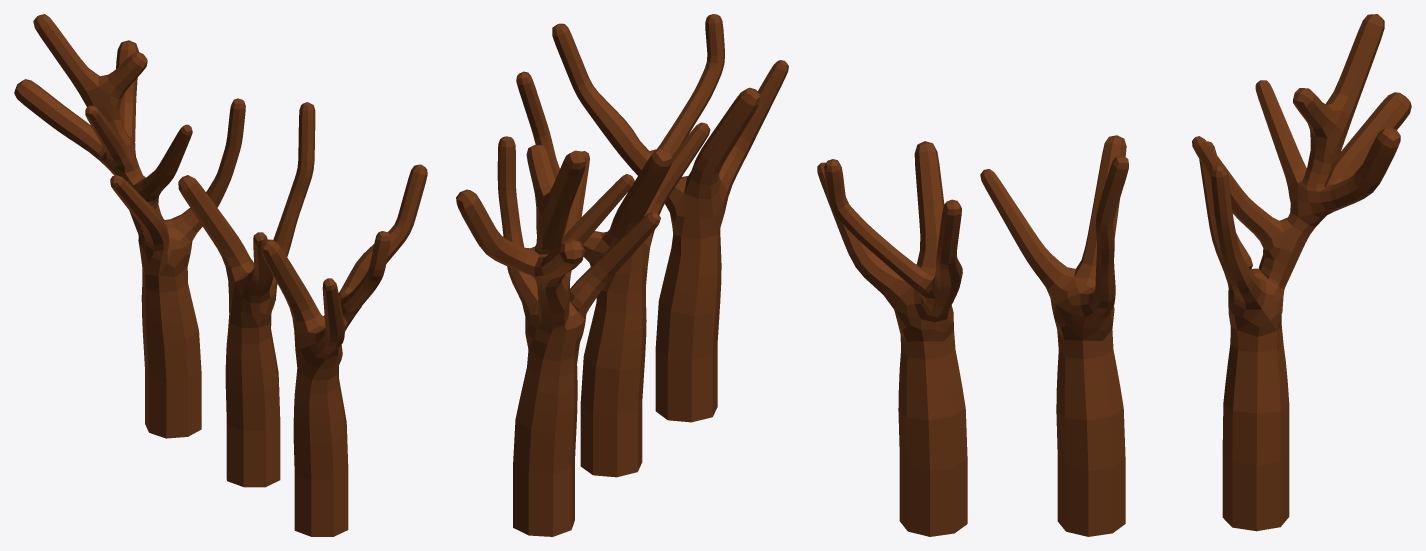
3 views of the same model, side by side, from view 1: azimuth 30°, elevation 25°; view 2: azimuth 150°, elevation 25°; view 3: azimuth 270°, elevation 25° (orthographic). The views are drawn at different scales.
Visible parts, largest first — view 1: ag1, ag1.001, ag1.002; view 2: ag1, ag1.001, ag1.002; view 3: ag1, ag1.001, ag1.002.
Part boxes in pixels (bbox=[...]): ag1: bbox=[14, 14, 245, 438]; ag1.001: bbox=[261, 164, 427, 536]; ag1.002: bbox=[178, 102, 315, 487]; ag1: bbox=[456, 136, 660, 536]; ag1.001: bbox=[552, 14, 788, 422]; ag1.002: bbox=[516, 71, 710, 477]; ag1: bbox=[1192, 14, 1411, 531]; ag1.001: bbox=[817, 141, 967, 536]; ag1.002: bbox=[980, 135, 1128, 536].
Size of the model in its own units: 1.25 by 2.16 by 2.54.
Materials: 1 (1 with a texture image).
